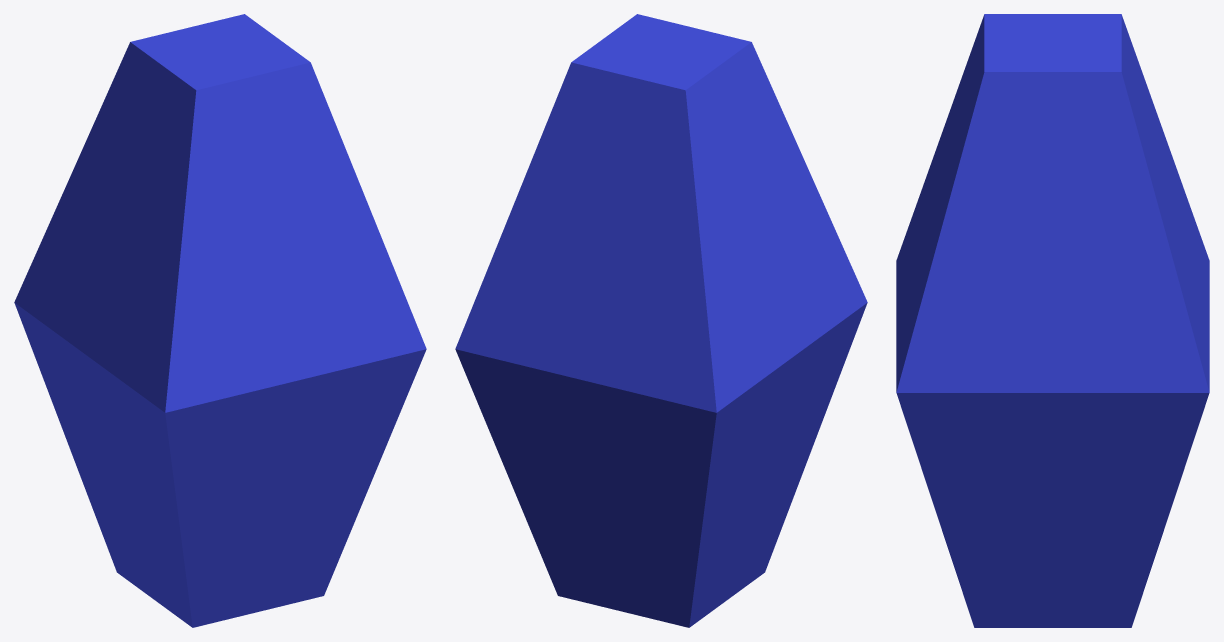
Rendered from AsteroidBlue.fbx.
3 views of the same model, side by side, from view 1: azimuth 30°, elevation 25°; view 2: azimuth 150°, elevation 25°; view 3: azimuth 270°, elevation 25° (orthographic). The views are drawn at different scales.
Parts seen in each view (by area): view 1: Cube; view 2: Cube; view 3: Cube.
Boxes of the visible parts, x1=… form: Cube: x1=14, y1=14, x2=426, y2=627; Cube: x1=455, y1=14, x2=867, y2=627; Cube: x1=896, y1=14, x2=1209, y2=627.
Size of the model in its own units: 200 by 389 by 200.
